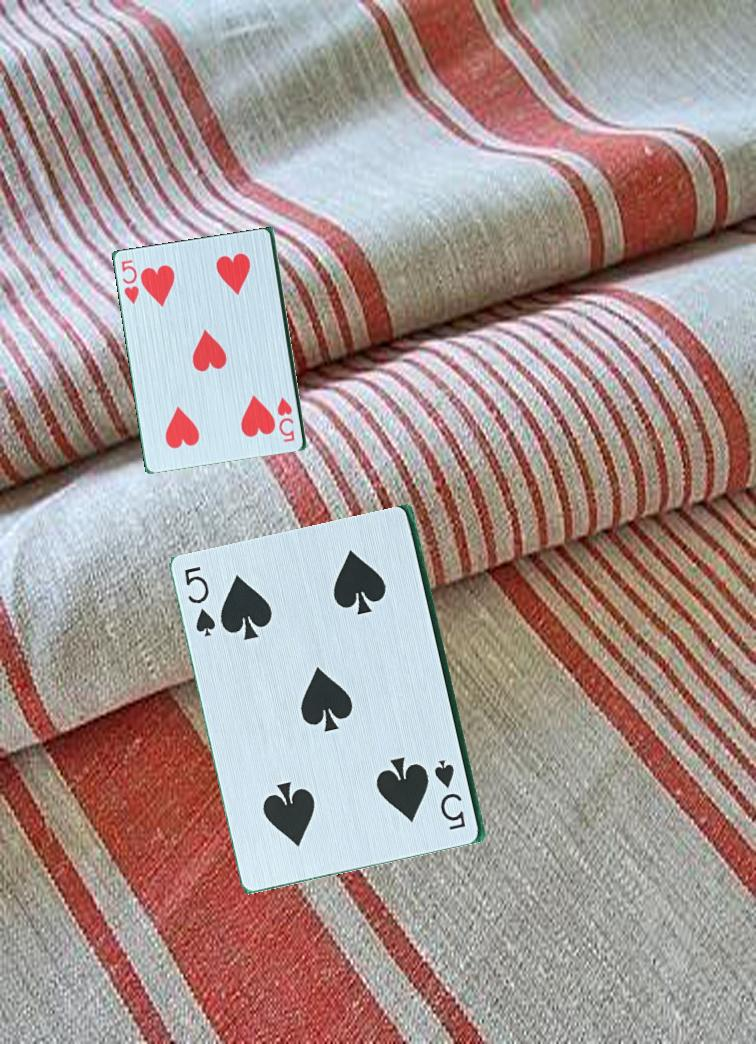5h: (118, 257, 142, 308), (275, 394, 298, 445)
5s: (181, 556, 224, 642), (433, 756, 472, 838)
